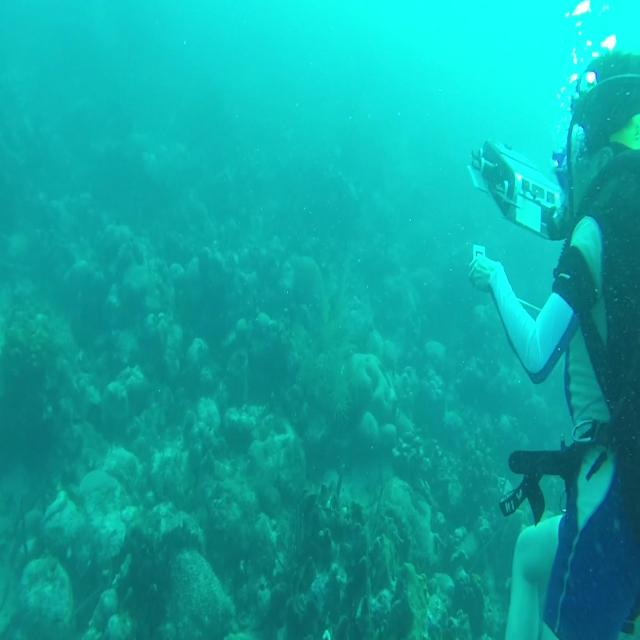human: (467, 49, 639, 638)
